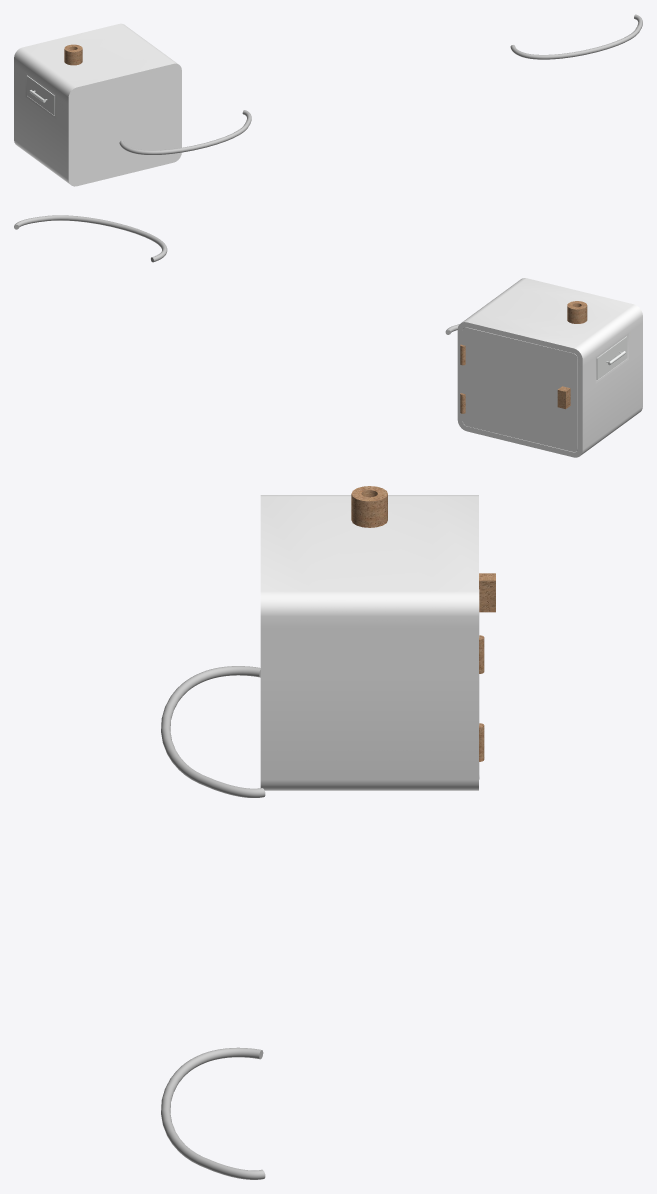
Rendered from explore.fbx.
3 renders of one model, top to bottom at view 1: azimuth 30°, elevation 25°; view 2: azimuth 150°, elevation 25°; view 3: azimuth 270°, elevation 25°, orthographic. The views are drawn at different scales.
Visible parts, largest first — view 1: centrale_2, cable_2, pipe; view 2: centrale_2, cable_2; view 3: centrale_2, cable_2, pipe.
Boxes of the visible parts, x1,y1,x2,y2 form: centrale_2: [14, 23, 181, 186]; cable_2: [510, 14, 642, 59]; pipe: [119, 110, 251, 154]; centrale_2: [457, 278, 642, 457]; cable_2: [14, 215, 167, 262]; centrale_2: [260, 486, 495, 790]; cable_2: [161, 1047, 265, 1179]; pipe: [161, 666, 265, 797].
Bounding box in the file's own units: 837 × 156 × 211.
Materials: 2 (1 with a texture image).
